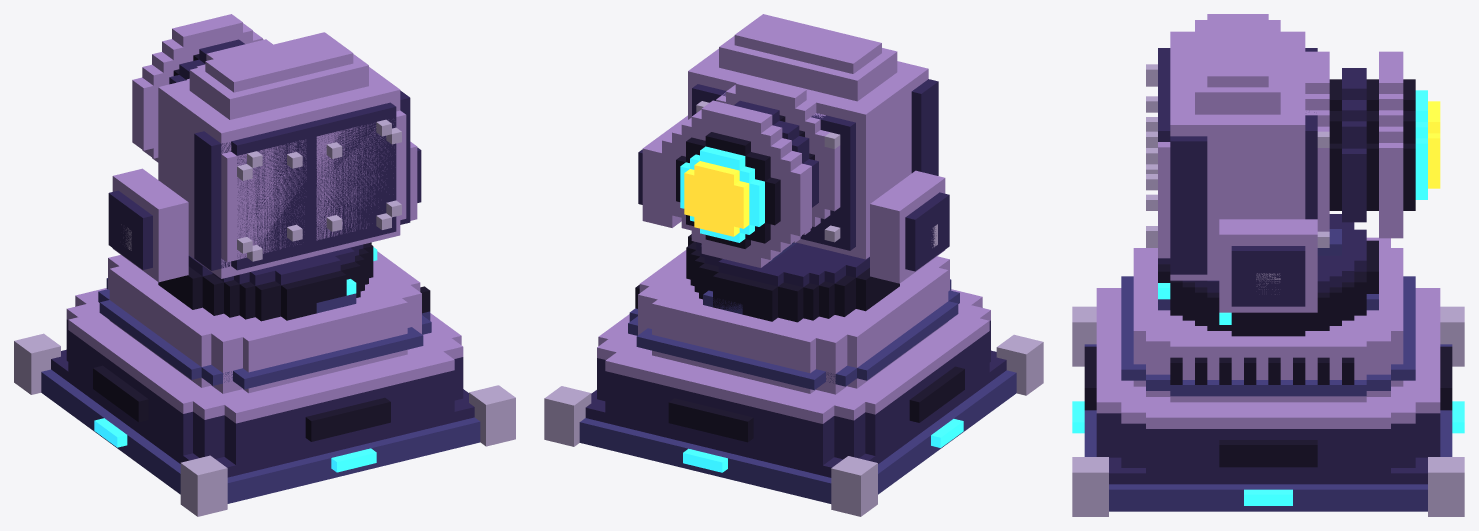
Rendered from plasma-turret.md.glb.
3 views of the same model, side by side, from view 1: azimuth 30°, elevation 25°; view 2: azimuth 150°, elevation 25°; view 3: azimuth 270°, elevation 25° (orthographic). The views are drawn at different scales.
Parts seen in each view (by area): view 1: plasma-turret.md; view 2: plasma-turret.md; view 3: plasma-turret.md.
Boxes of the visible parts, box(x1,y1,x2,y2) form: plasma-turret.md: box(14, 14, 515, 516); plasma-turret.md: box(544, 14, 1043, 516); plasma-turret.md: box(1072, 14, 1464, 516).
Bounding box in the file's own units: 2 × 2.19 × 2.
